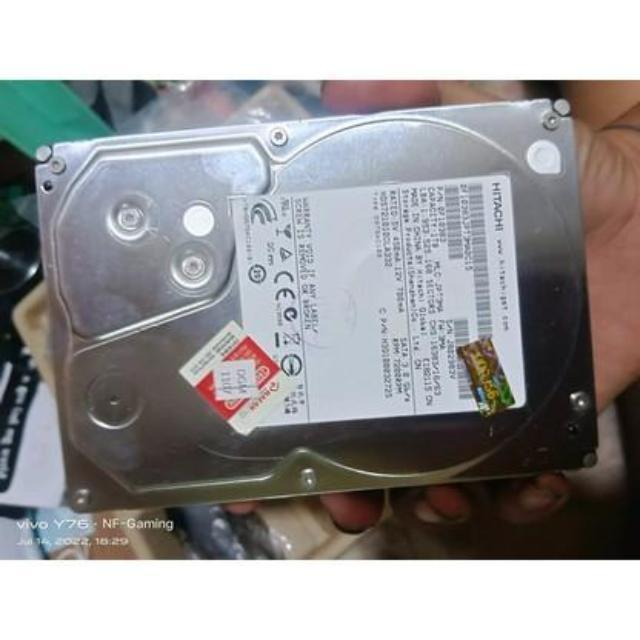DISK: (26, 88, 606, 517)
